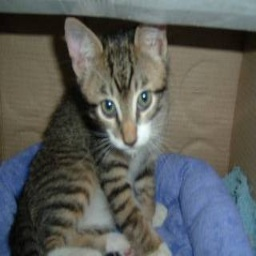cat: (25, 19, 178, 256)
